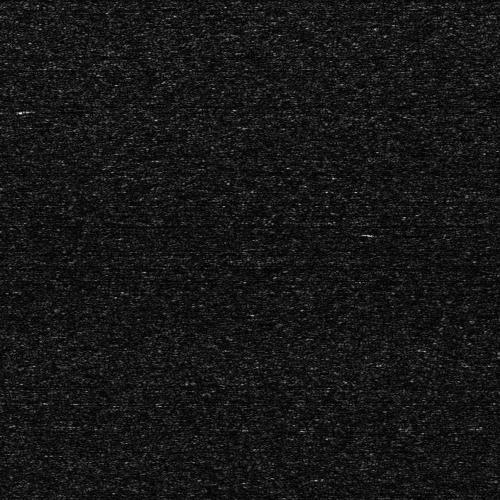object: (0, 107, 39, 112), (360, 231, 391, 234)
shadow: (12, 107, 67, 112), (376, 231, 436, 234)
